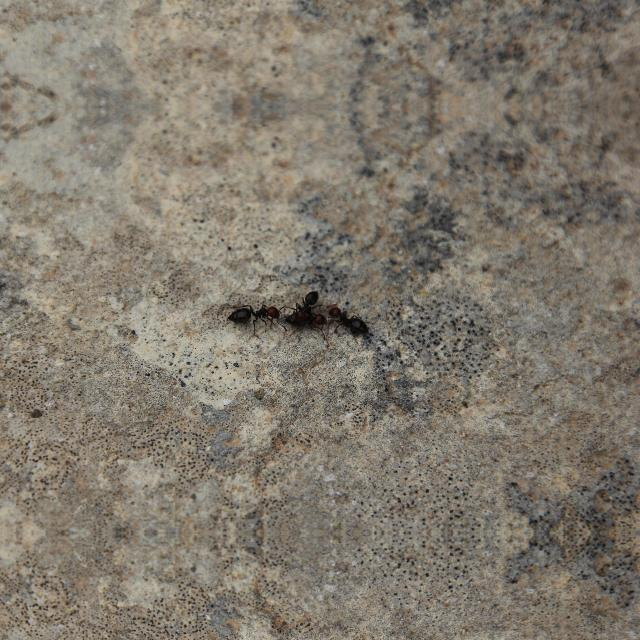Crematogaster: (220, 294, 282, 330), (330, 300, 372, 334), (283, 306, 329, 334), (290, 286, 324, 322)
